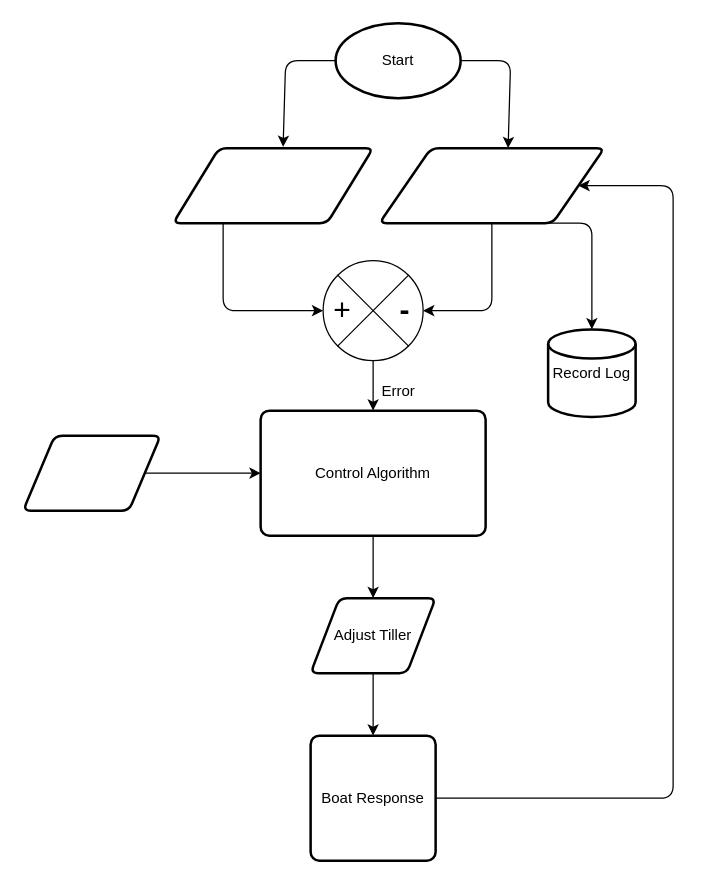
The diagram is 705 pixels wide and 883 high, and some of its shapes have lost their labels. The centre of each missing label's shape, as x and y in pixels:
Configuration Parameters: [91,472]
Desired Heading: [272,185]
Read GPS/Sensors: [491,185]
